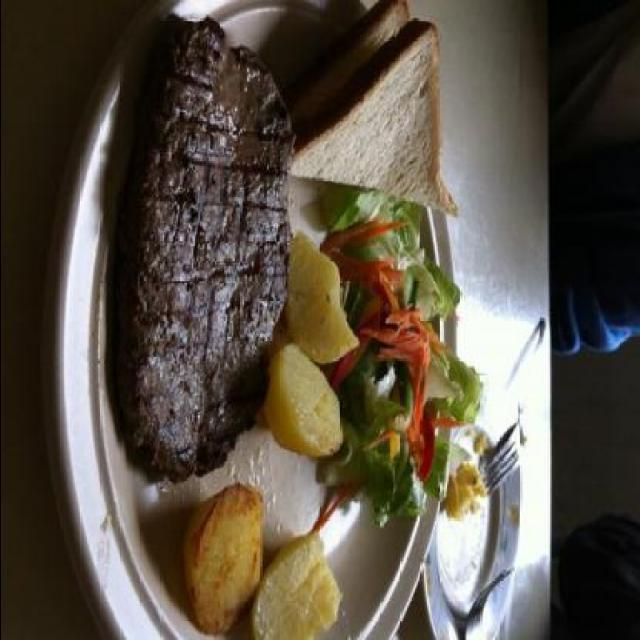Potato: (268, 273, 362, 519)
Sandwich: (280, 20, 468, 214)
Steak: (96, 34, 307, 474)
